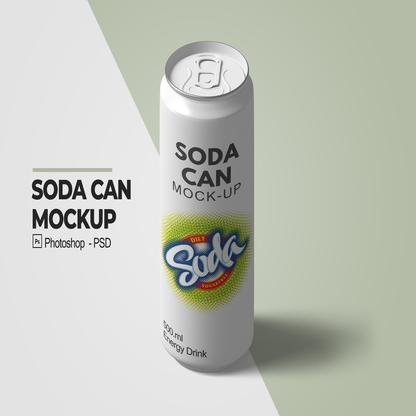can: (158, 35, 257, 372)
